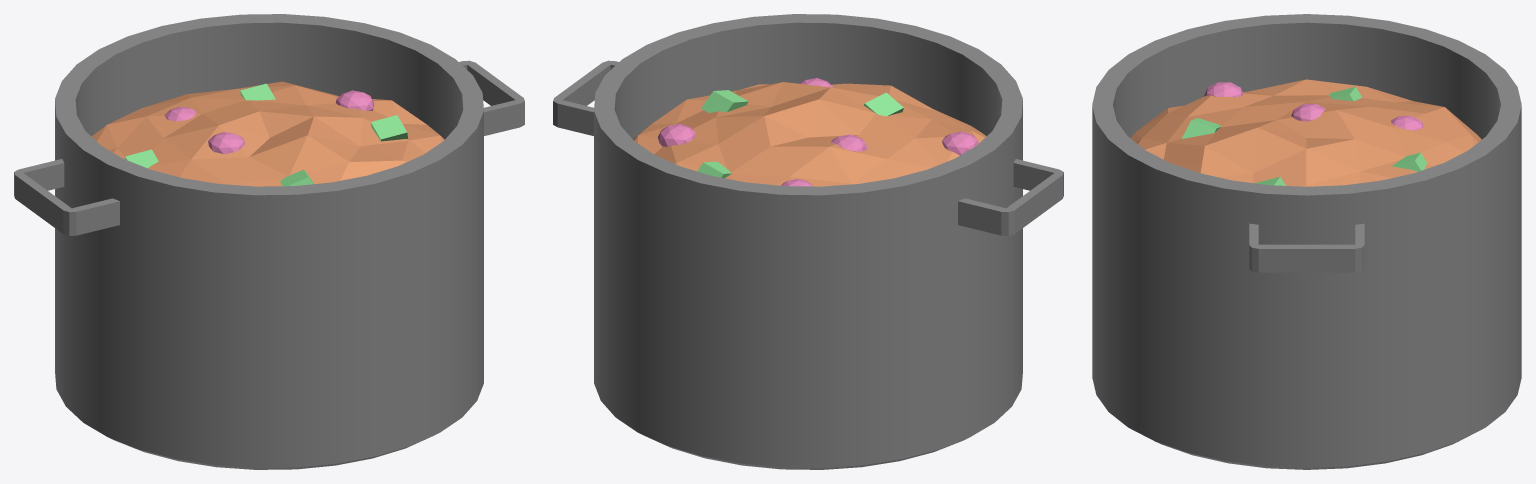
File: füllung_mit_topf.fbx
3 views of the same model, side by side, from view 1: azimuth 30°, elevation 25°; view 2: azimuth 150°, elevation 25°; view 3: azimuth 270°, elevation 25° (orthographic).
Parts seen in each view (by area): view 1: Cylinder.001; view 2: Cylinder.001; view 3: Cylinder.001.
Boxes of the visible parts, box(x1,y1,x2,y2) form: Cylinder.001: box(14, 14, 524, 469); Cylinder.001: box(553, 14, 1063, 469); Cylinder.001: box(1092, 14, 1521, 469).
Bounding box in the file's own units: 86.57 × 50 × 70.
